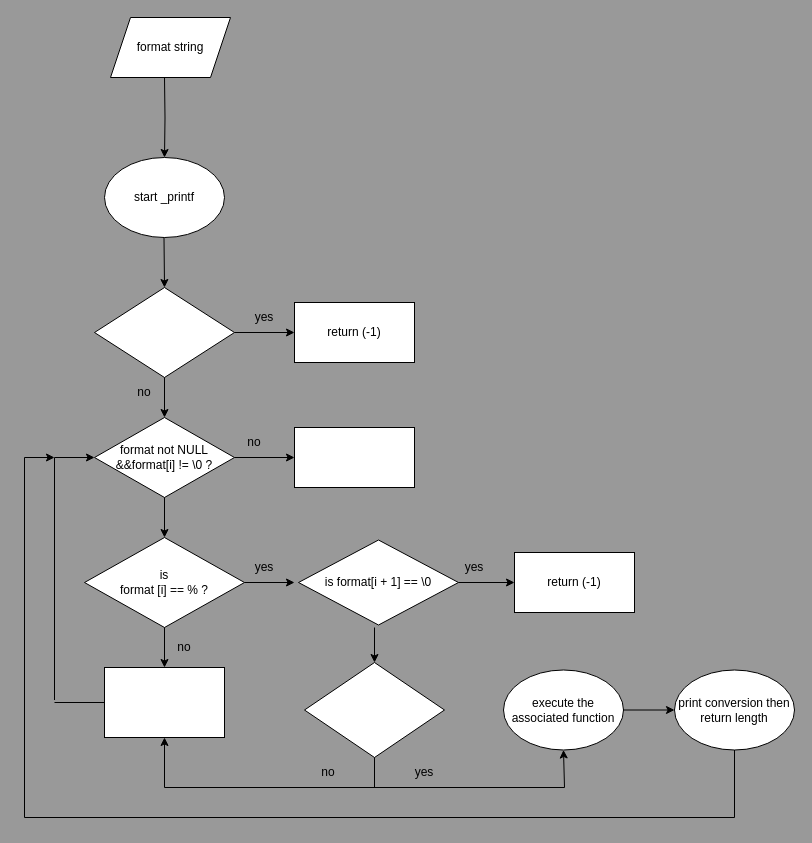
This 812x843 diagram has some shape labels left out. The centre of each missing label's shape, as x and y in pixels:
"does it match a letter in selection.c ?" goes at [374,710].
"is format == NULL ?" goes at [164,332].
"prints format[i] and return (length)" goes at [164,702].
"return (length)" goes at [354,457].
